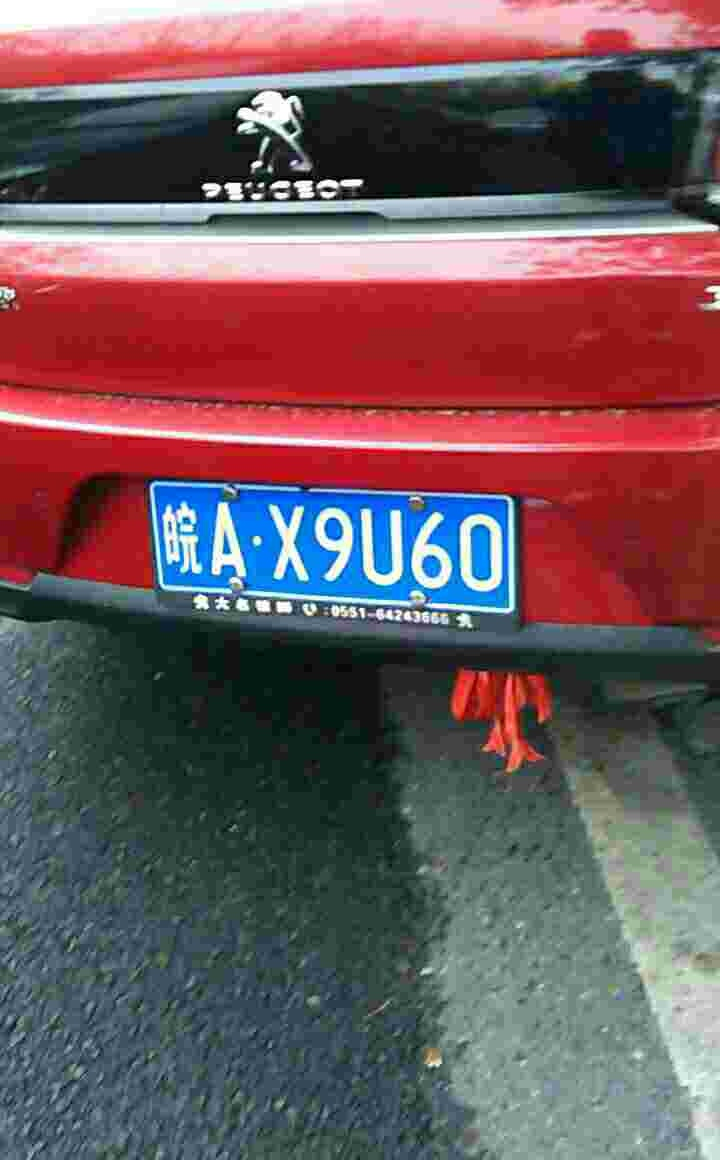car_blue: (142, 476, 520, 620)
